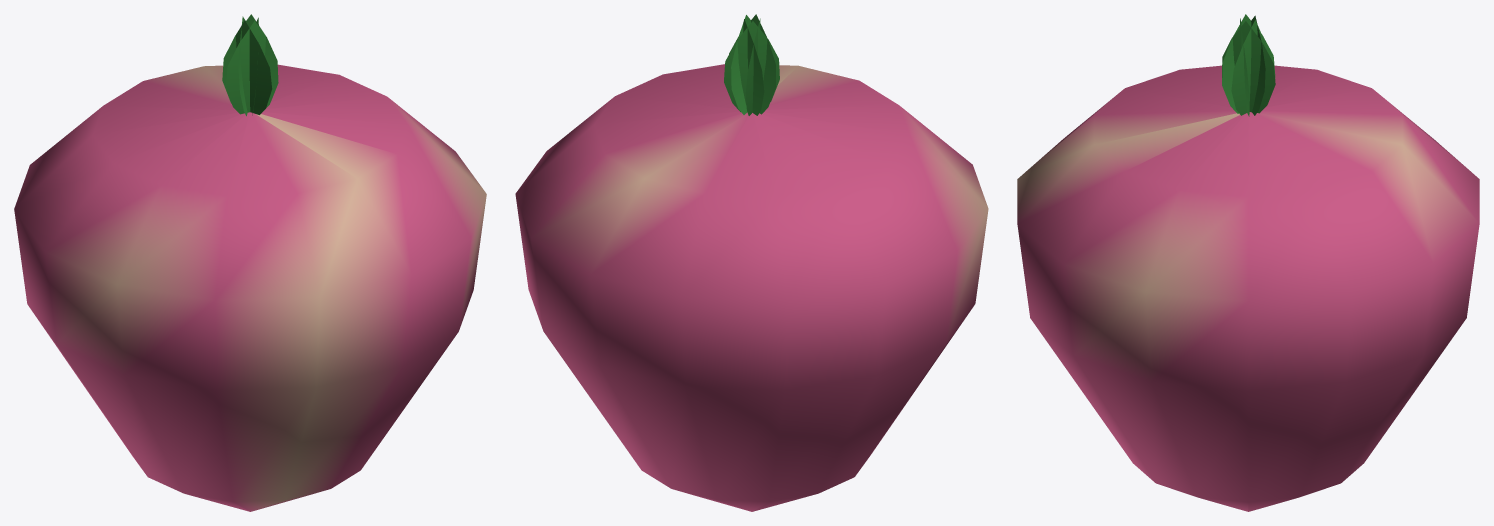
The model's file is fruit-cactus-plain.gltf.
The picture shows the model from 3 angles, left to right: view 1: azimuth 30°, elevation 25°; view 2: azimuth 150°, elevation 25°; view 3: azimuth 270°, elevation 25°; orthographic projection.
Size of the model in its own units: 0.36 by 0.4142 by 0.351.
